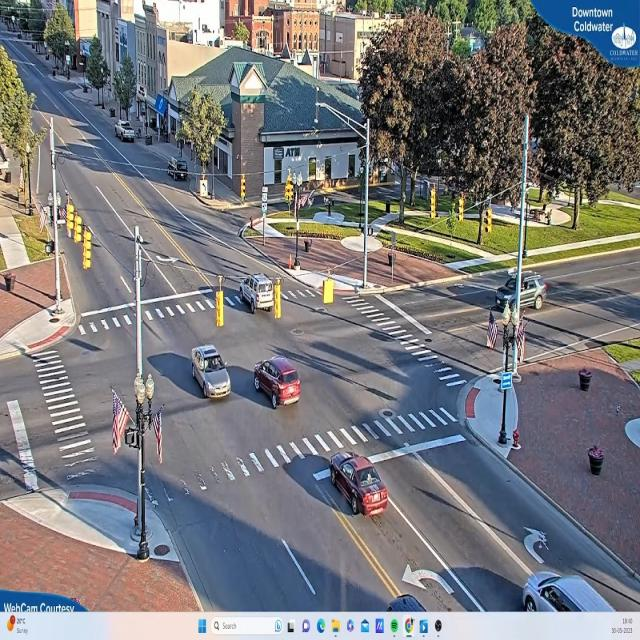car: (332, 456, 390, 520), (253, 358, 303, 409), (190, 344, 230, 401), (498, 272, 548, 317), (238, 273, 278, 315), (116, 122, 137, 143)
